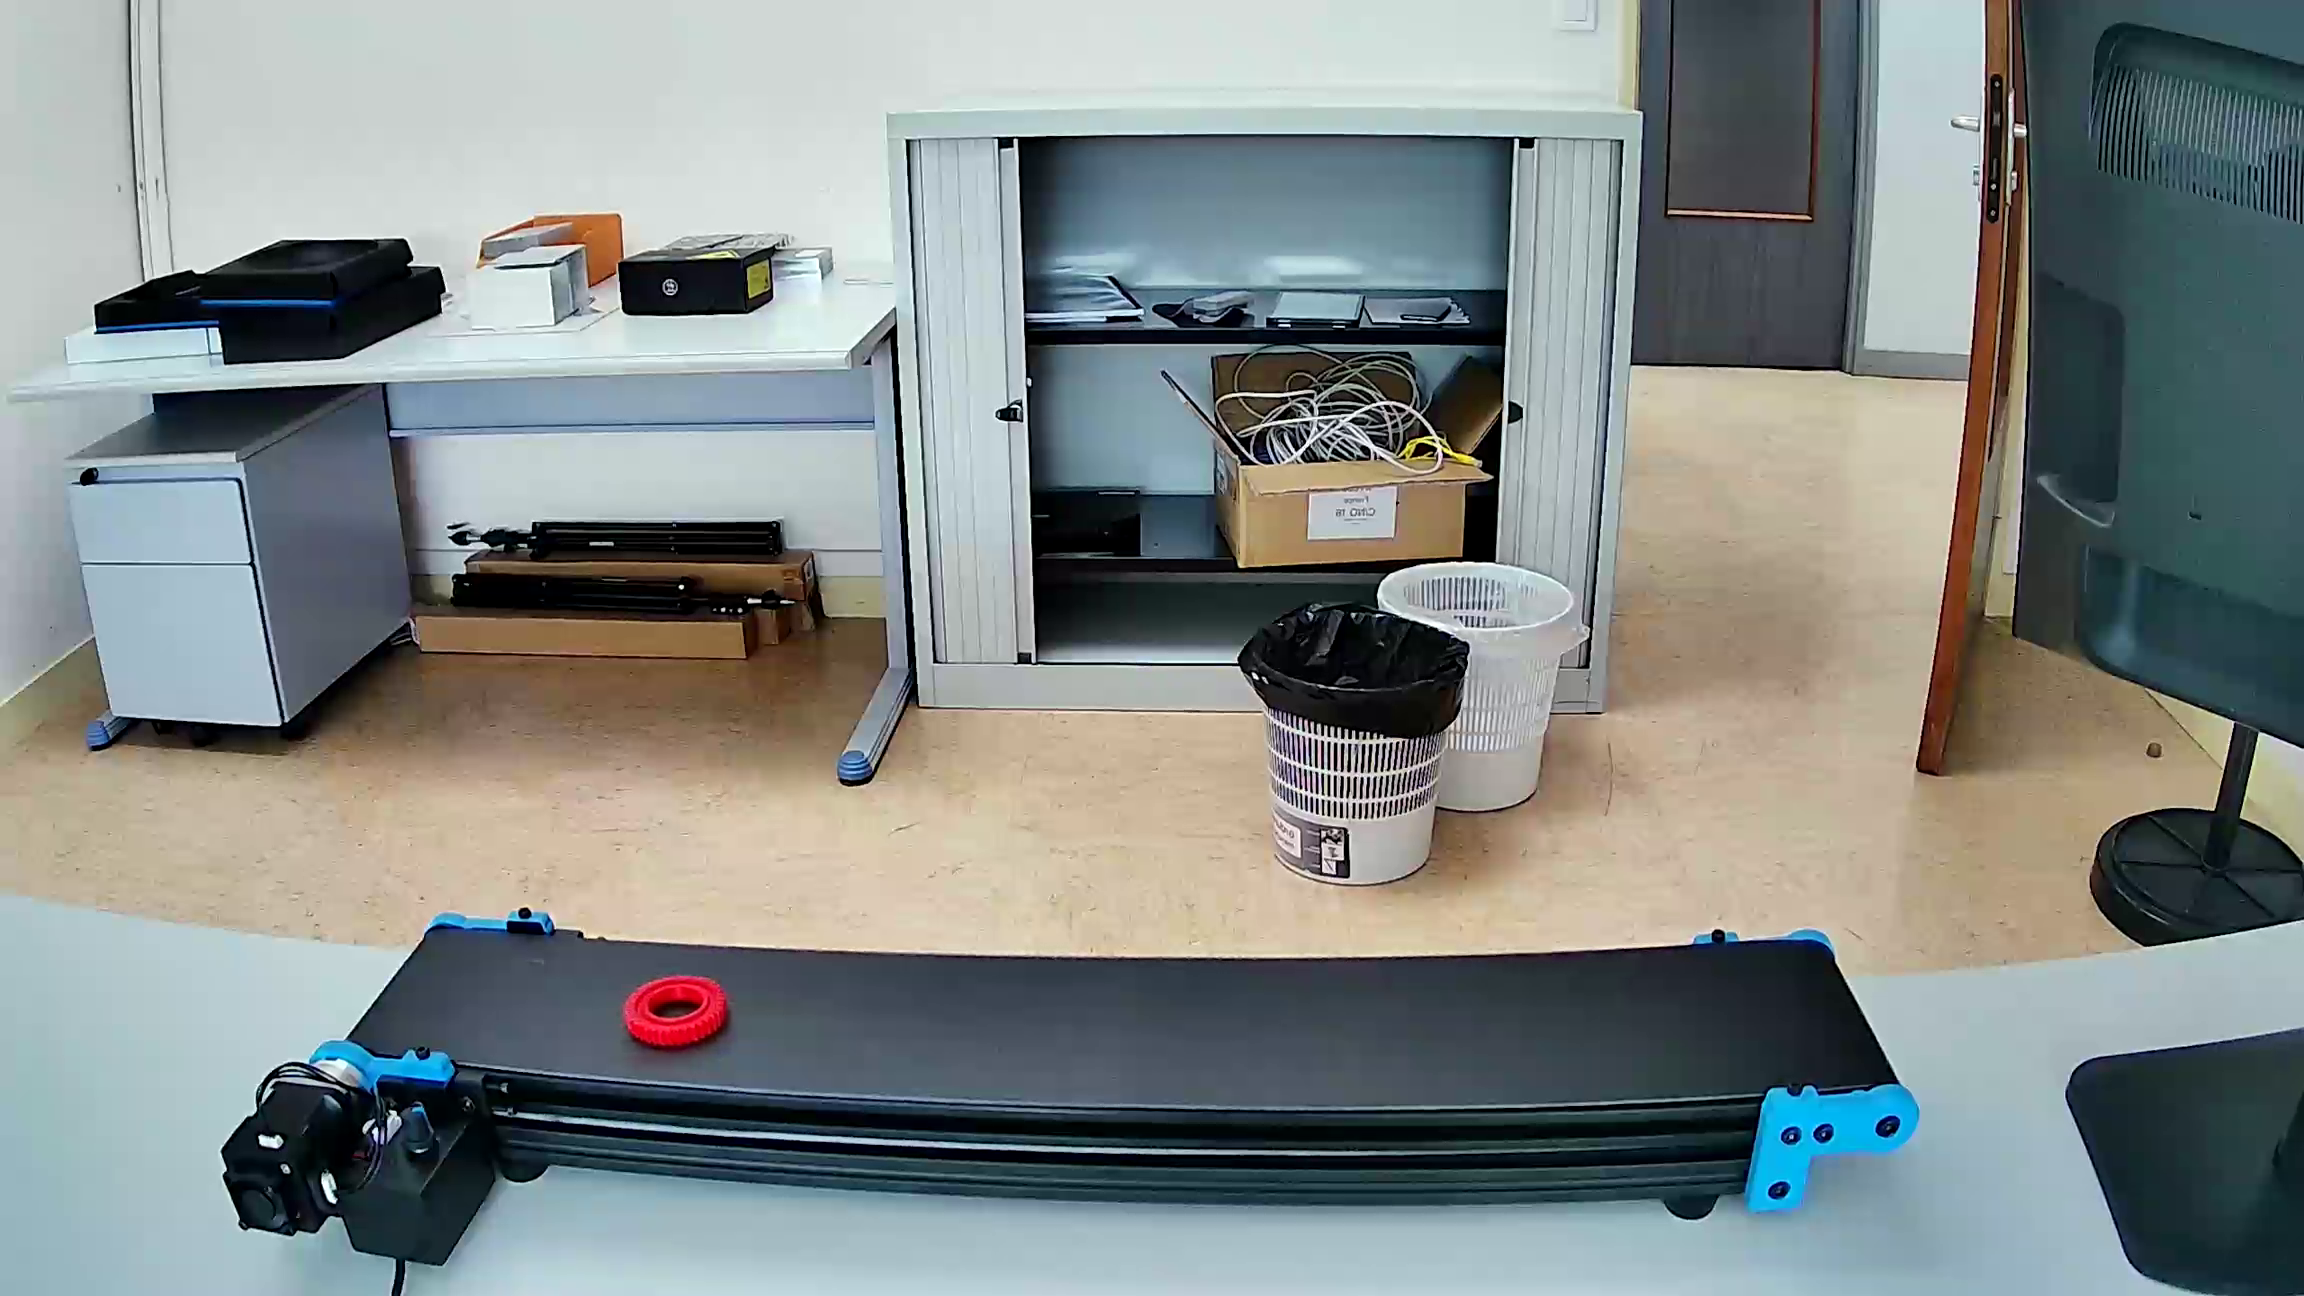not_good: (623, 973, 720, 1049)
